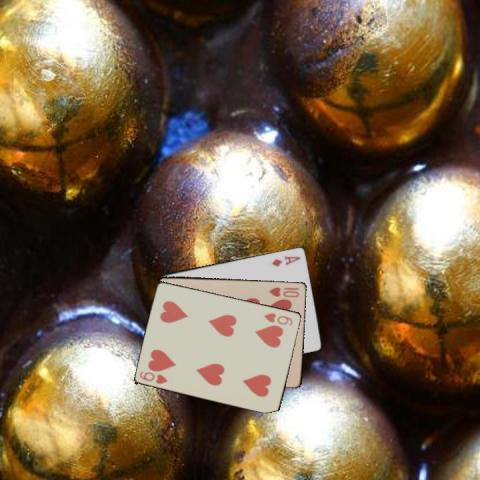10h: (266, 284, 301, 299)
6h: (261, 310, 294, 327), (137, 368, 169, 385)
Ad: (269, 253, 302, 268)
